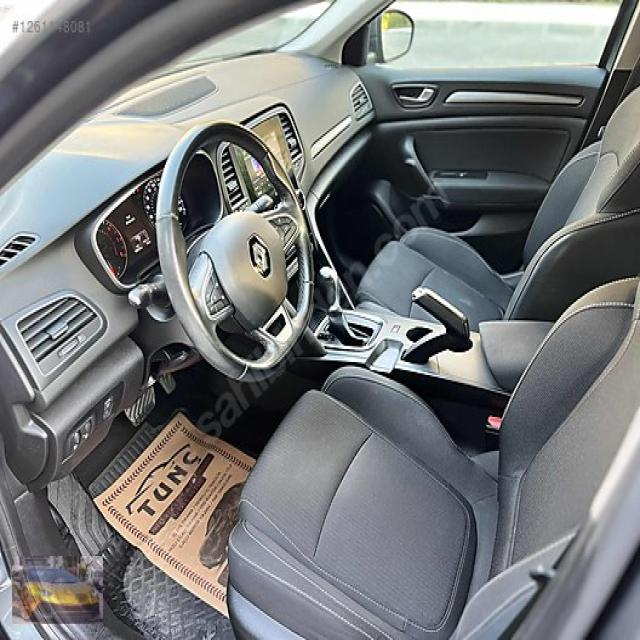renault: (252, 242, 270, 272)
